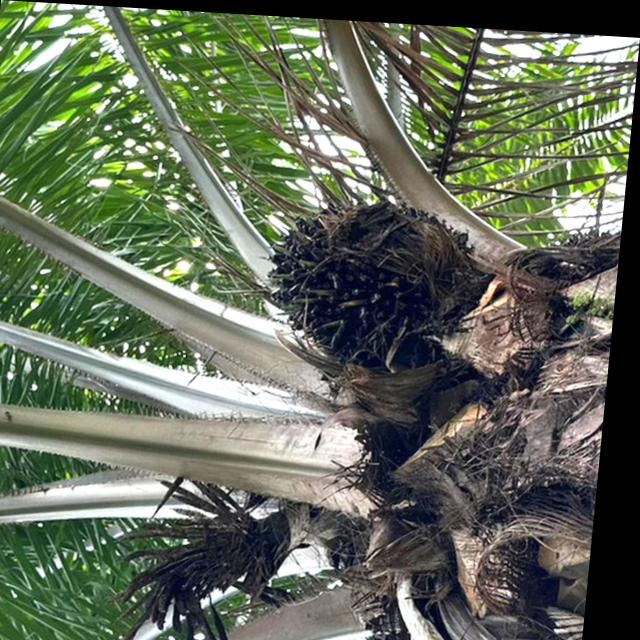unripe: (248, 181, 496, 382)
